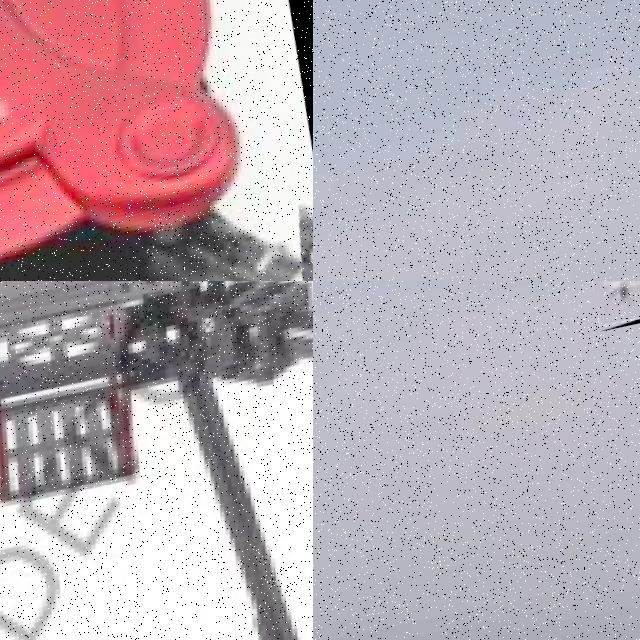0: (586, 281, 640, 330)
drone: (0, 281, 313, 640), (0, 0, 313, 281)
